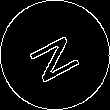N_NE: (23, 26, 87, 84)
